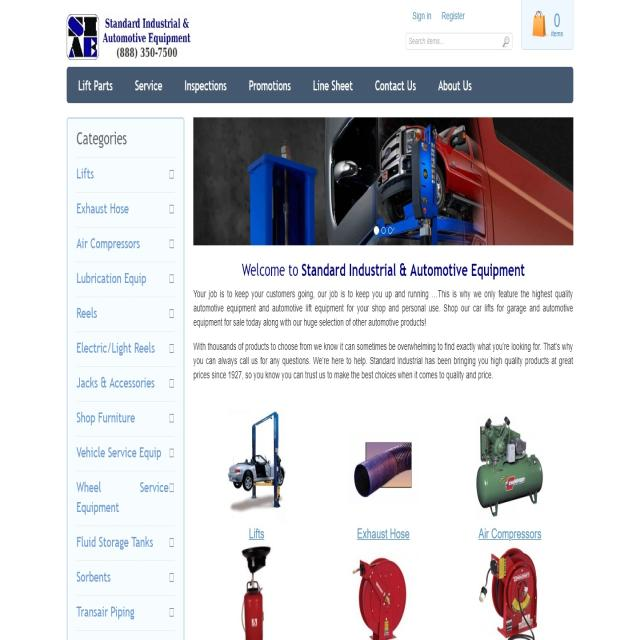button: (76, 472, 174, 518), (72, 225, 174, 262), (74, 296, 176, 330), (74, 330, 176, 364), (74, 401, 175, 435), (74, 192, 176, 224), (73, 438, 177, 469), (74, 366, 176, 397), (76, 563, 174, 595), (76, 598, 175, 629), (74, 263, 176, 293), (74, 161, 178, 190), (75, 528, 174, 558), (362, 67, 426, 103), (300, 67, 362, 103), (234, 68, 298, 102), (174, 67, 233, 102), (120, 67, 173, 104), (68, 67, 118, 103), (427, 68, 478, 103), (438, 4, 466, 26), (410, 6, 433, 26), (501, 33, 512, 49)
field: (406, 33, 513, 51)
heading: (240, 260, 526, 284), (103, 16, 191, 59), (75, 130, 132, 148)
image: (194, 118, 574, 244), (474, 406, 546, 520), (353, 406, 414, 504), (229, 409, 285, 511), (481, 547, 540, 640), (354, 546, 409, 640), (236, 545, 277, 640), (68, 15, 100, 61)
label: (406, 34, 439, 48)
link: (478, 525, 544, 543), (356, 525, 411, 543), (248, 525, 266, 542)
text: (192, 286, 576, 384)
